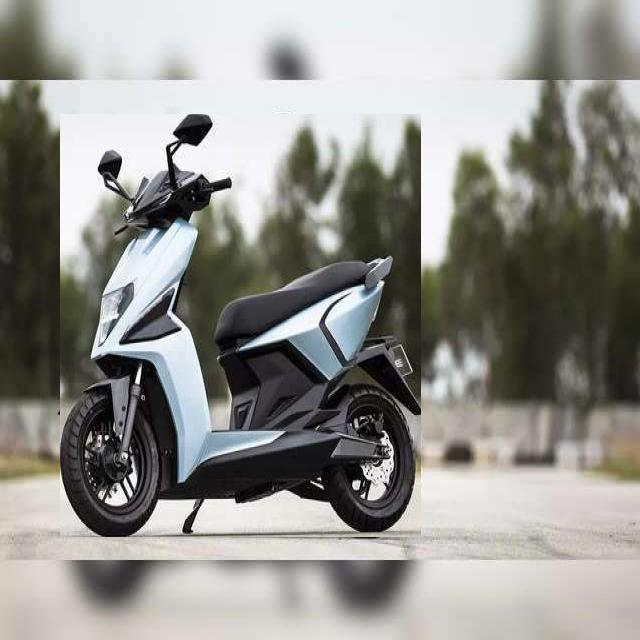motorcycle: (60, 115, 421, 537)
